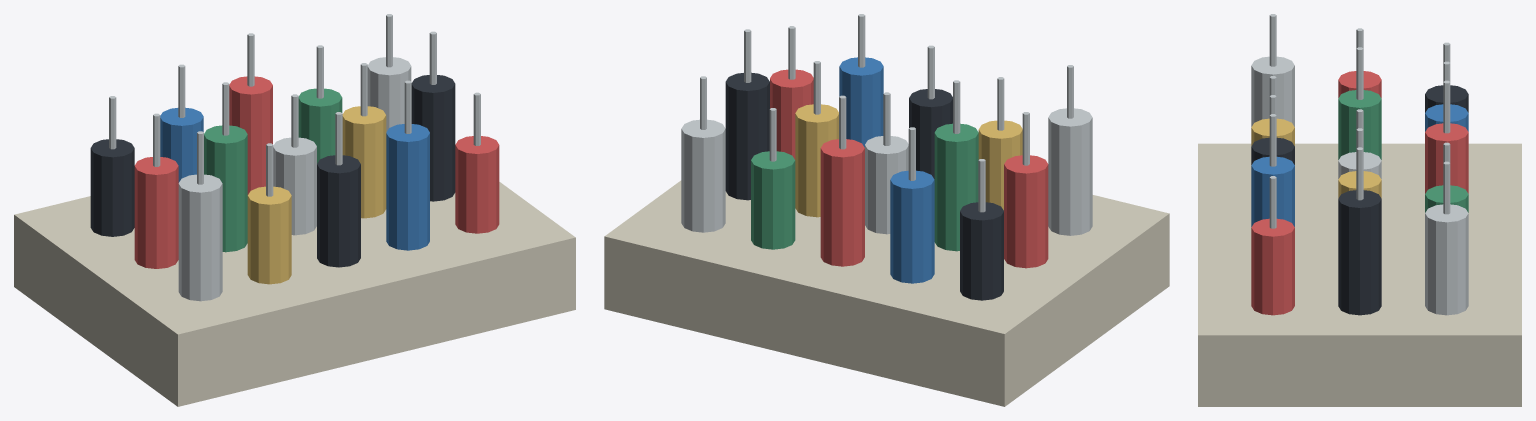
Rendered from product-28.glb.
3 renders of one model, left to right at view 1: azimuth 30°, elevation 25°; view 2: azimuth 150°, elevation 25°; view 3: azimuth 270°, elevation 25°, orthographic.
Visible parts, largest first — view 1: product-28; view 2: product-28; view 3: product-28.
Boxes of the visible parts, x1,y1,x2,y2 form: product-28: [14, 14, 575, 406]; product-28: [604, 14, 1169, 406]; product-28: [1198, 14, 1521, 406].
Bounding box in the file's own units: 1.15 × 0.64 × 0.82.
